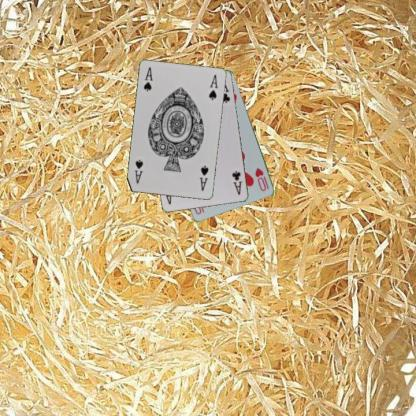10h: (252, 166, 271, 192)
Ac: (230, 168, 244, 196)
As: (141, 65, 154, 93), (198, 163, 209, 192)
